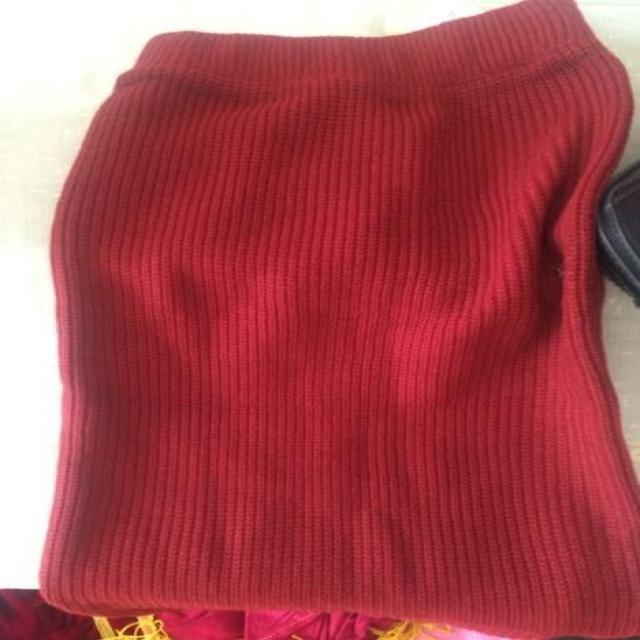skirt: (42, 1, 635, 637)
